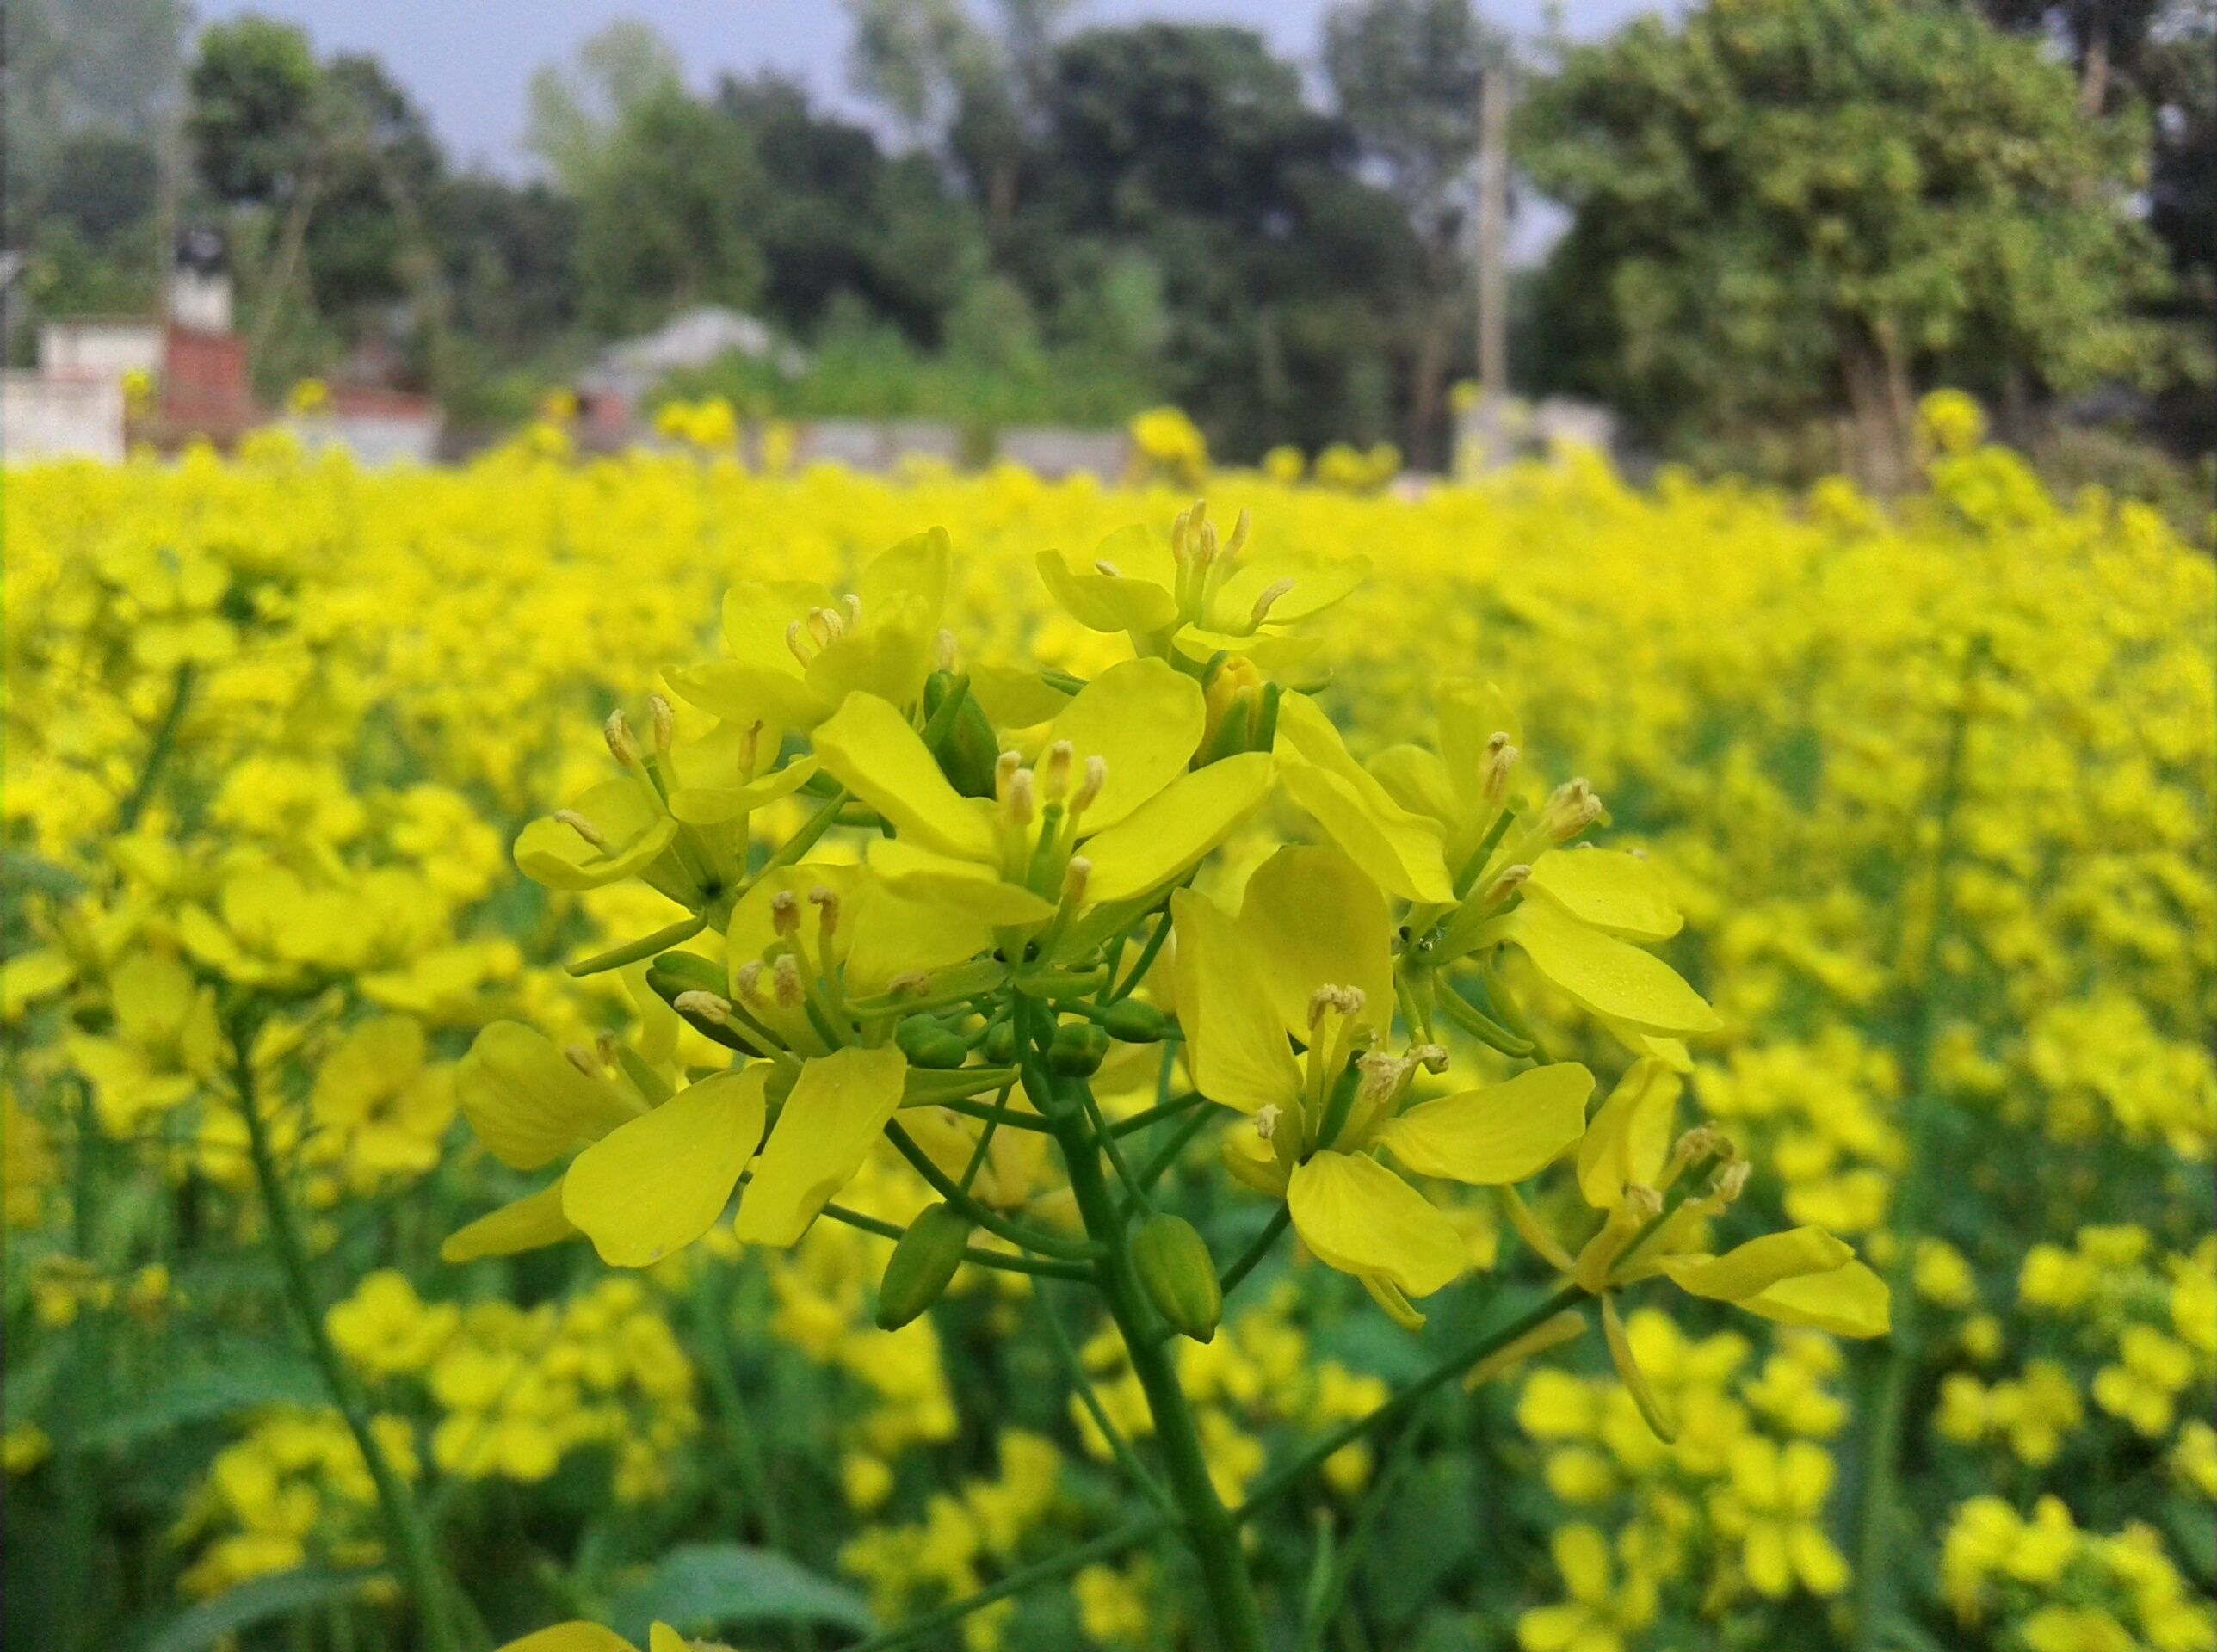mustard: (33, 482, 2217, 1513), (561, 479, 1793, 1485)
